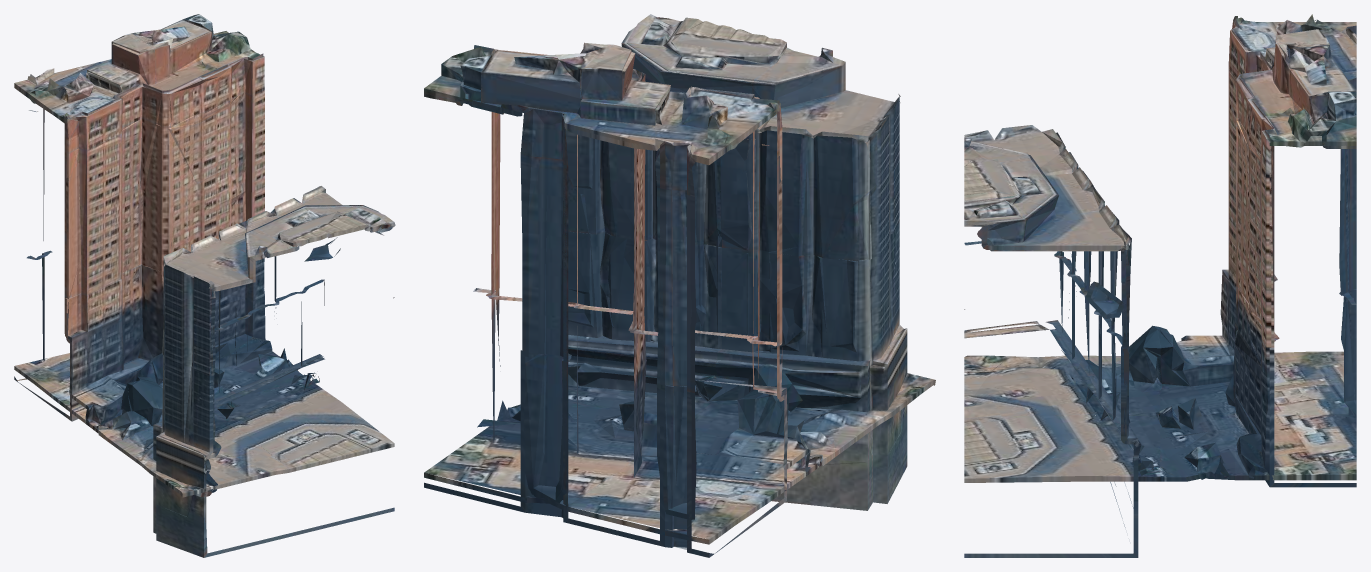
Rendered from chunk_-6_-2.glb.
3 renders of one model, left to right at view 1: azimuth 30°, elevation 25°; view 2: azimuth 150°, elevation 25°; view 3: azimuth 270°, elevation 25°, orthographic. The views are drawn at different scales.
Visible parts, largest first — view 1: hero-chunk; view 2: hero-chunk; view 3: hero-chunk.
Part boxes in pixels (x1,y1,x2,y2): hero-chunk: (14,14,395,557); hero-chunk: (424,14,935,557); hero-chunk: (964,14,1356,557).
Size of the model in its own units: 56.34 by 97.95 by 76.33.
Materials: 2 (2 with a texture image).
